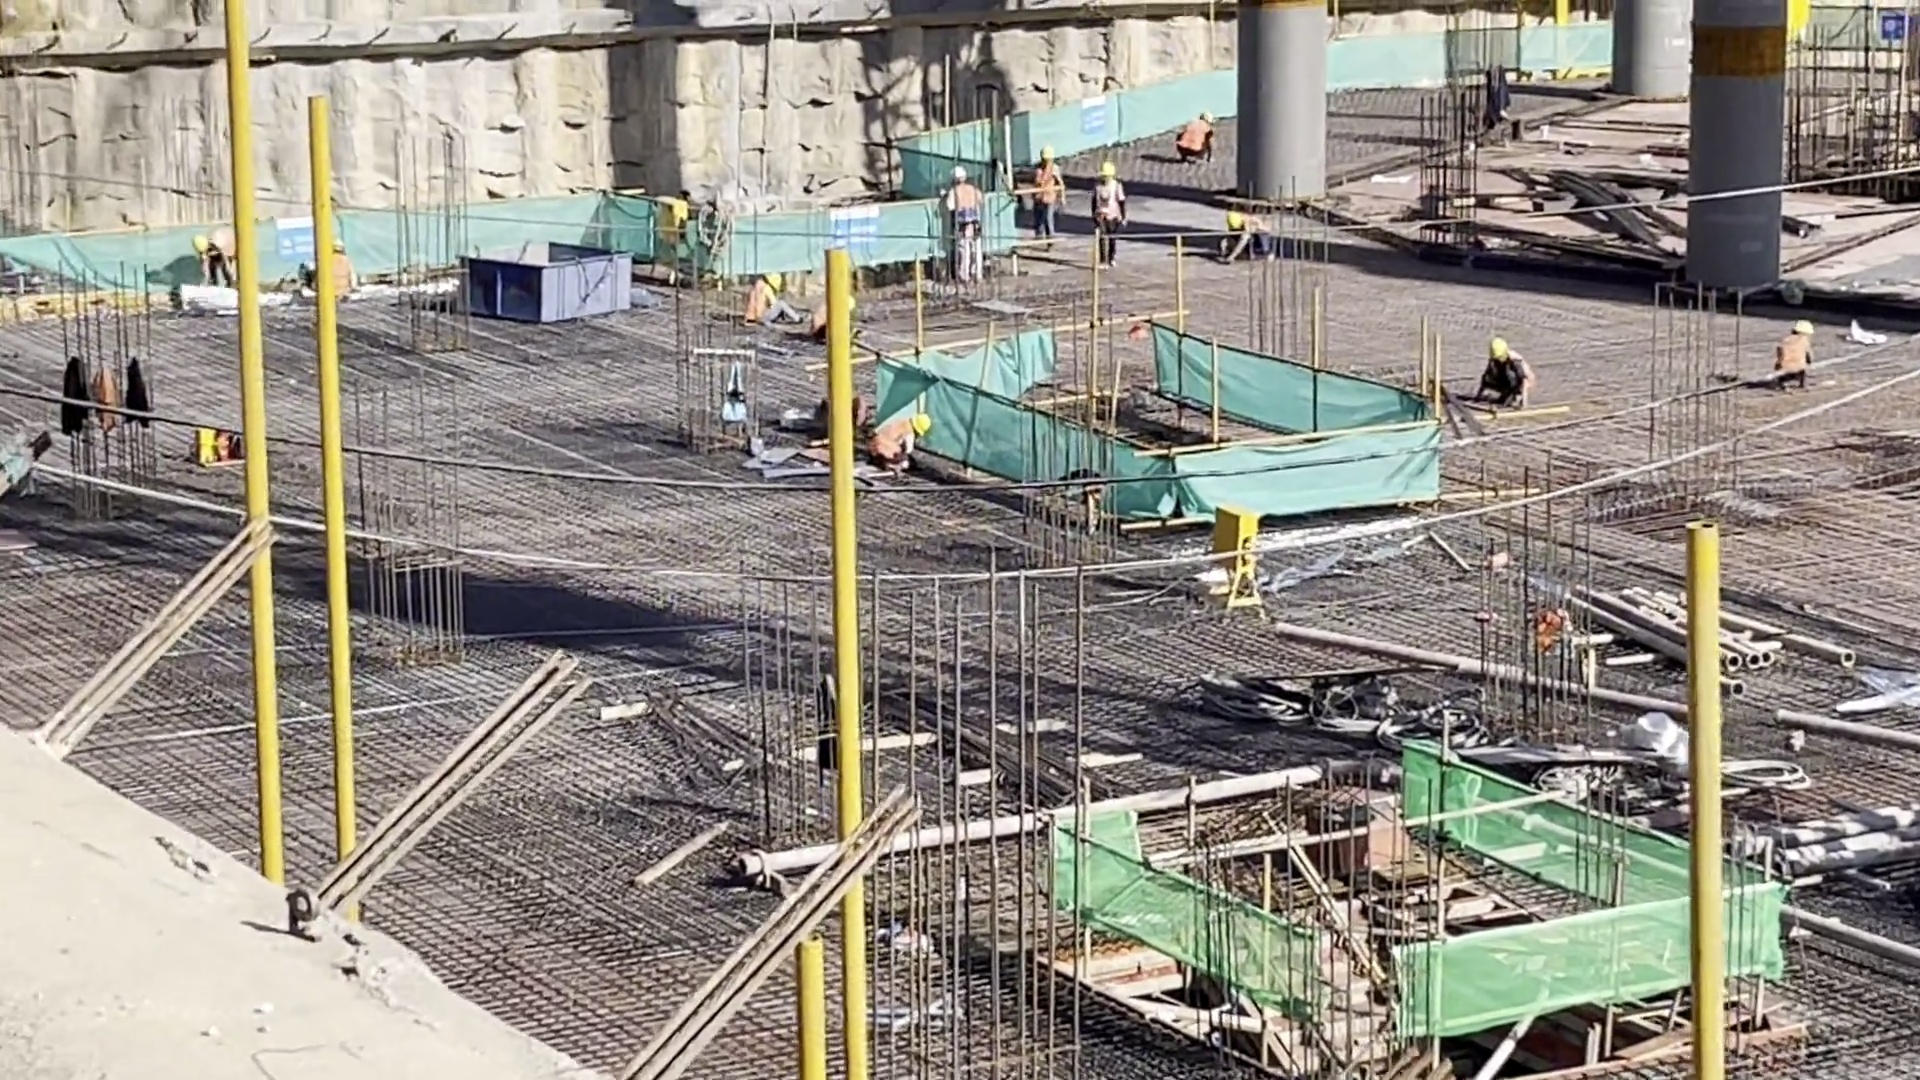ebox: (1211, 510, 1261, 601), (656, 199, 690, 245)
helmet: (910, 412, 930, 436), (1489, 338, 1507, 360), (764, 272, 781, 291), (1794, 319, 1814, 334), (951, 165, 968, 181), (192, 236, 208, 252), (1098, 163, 1116, 177), (1227, 213, 1241, 228), (1041, 146, 1054, 160)
hopper: (461, 242, 636, 322)
person: (946, 165, 981, 279), (1481, 337, 1535, 411), (1089, 162, 1125, 265), (873, 413, 931, 468), (746, 272, 802, 323), (1034, 145, 1061, 247), (1775, 320, 1813, 390), (193, 233, 235, 287), (1178, 112, 1216, 169), (1226, 213, 1269, 264)
slogan: (828, 201, 879, 257), (274, 218, 315, 262), (1083, 95, 1106, 137)
vest: (871, 419, 912, 457), (1779, 333, 1816, 373), (1185, 119, 1209, 160), (1033, 168, 1056, 206), (748, 289, 773, 323), (958, 185, 975, 212)
